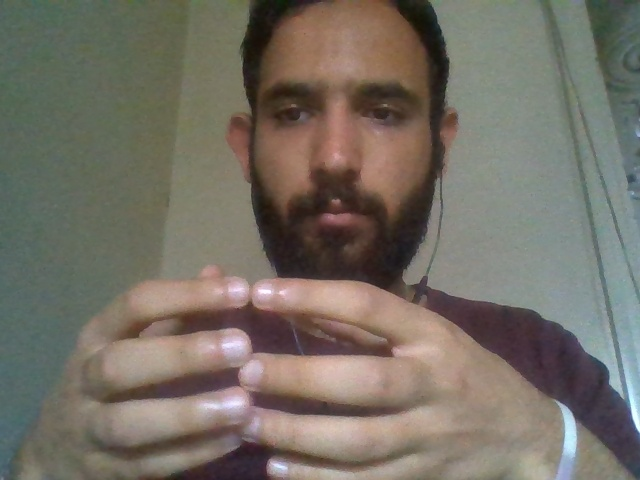Story: (62, 244, 499, 480)
